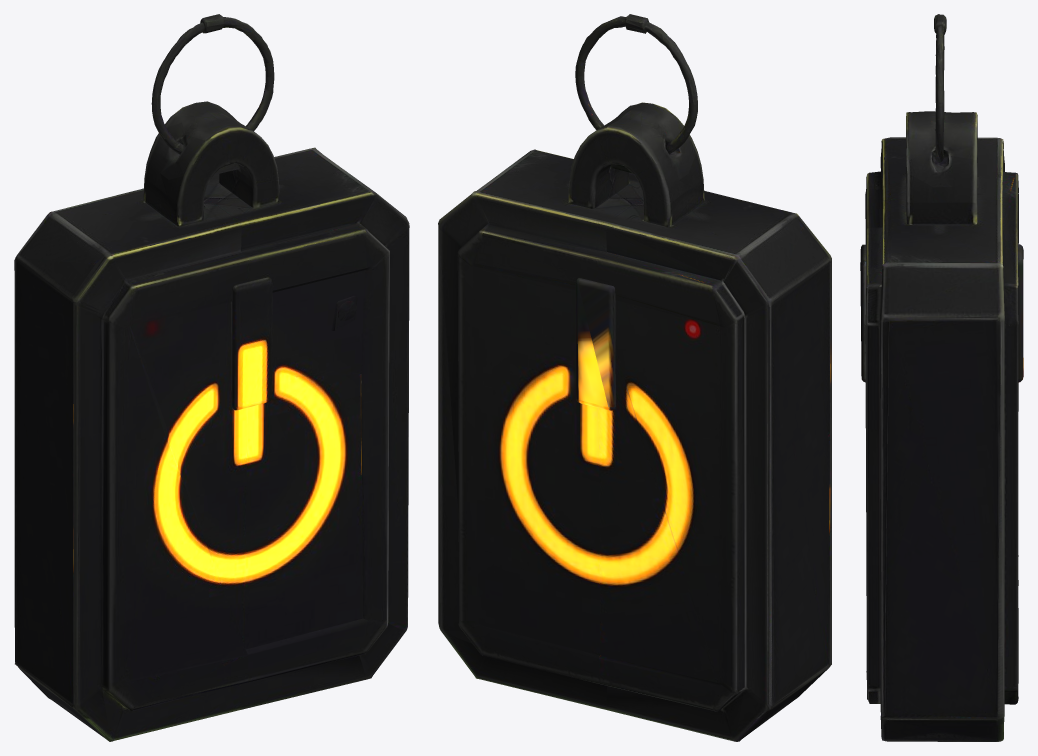
The model's file is standby_light.glb.
The picture shows the model from 3 angles, left to right: view 1: azimuth 30°, elevation 25°; view 2: azimuth 150°, elevation 25°; view 3: azimuth 270°, elevation 25°; orthographic projection.
Size of the model in its own units: 0.5215 by 1 by 0.2236.
1 material, 1 textured.
